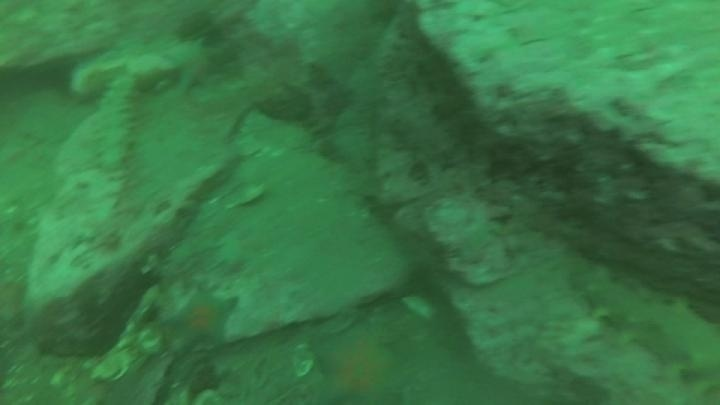holothurian: (574, 266, 720, 394), (91, 67, 140, 175)
starfish: (307, 316, 412, 405), (160, 284, 242, 355), (158, 36, 236, 96)
